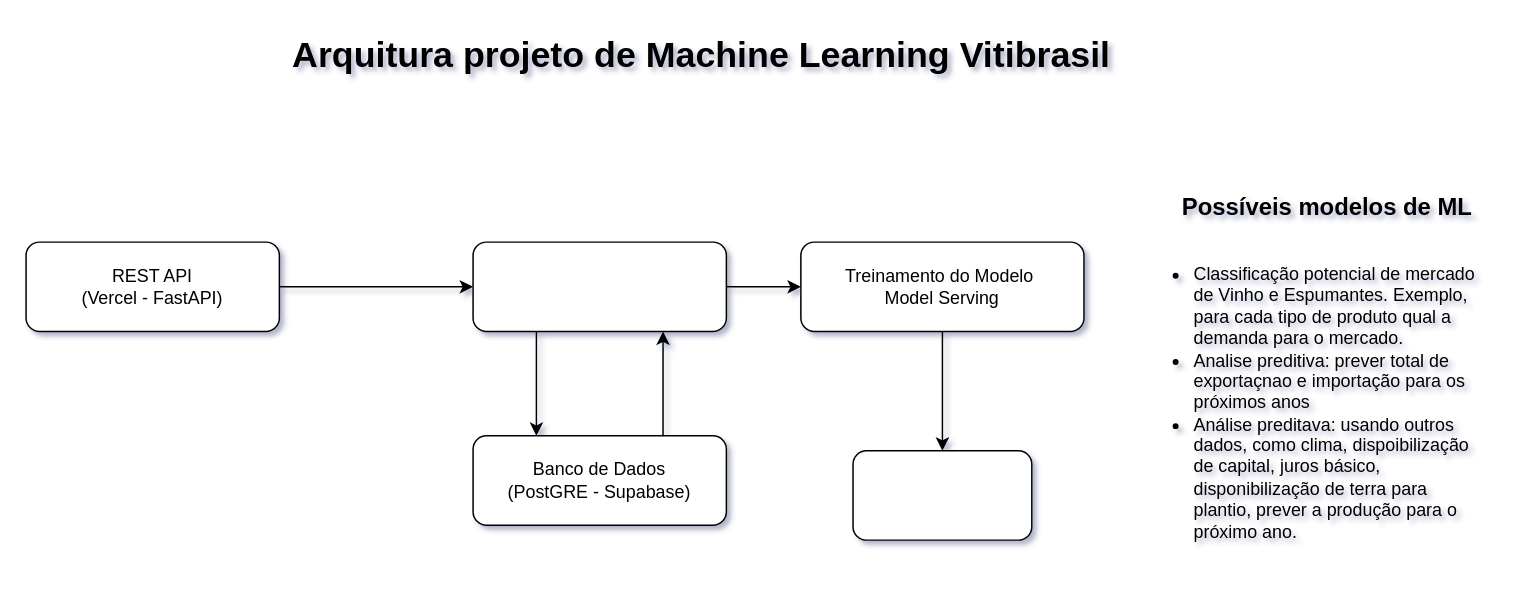
The diagram is 1524 pixels wide and 615 high, and some of its shapes have lost their labels. Here are the shapes that lost their labels. From the top down, the centre of each, then its label:
At pixel 599 286: "Data Pipeline".
At pixel 942 494: "WebApp para apresentação dos dados".
